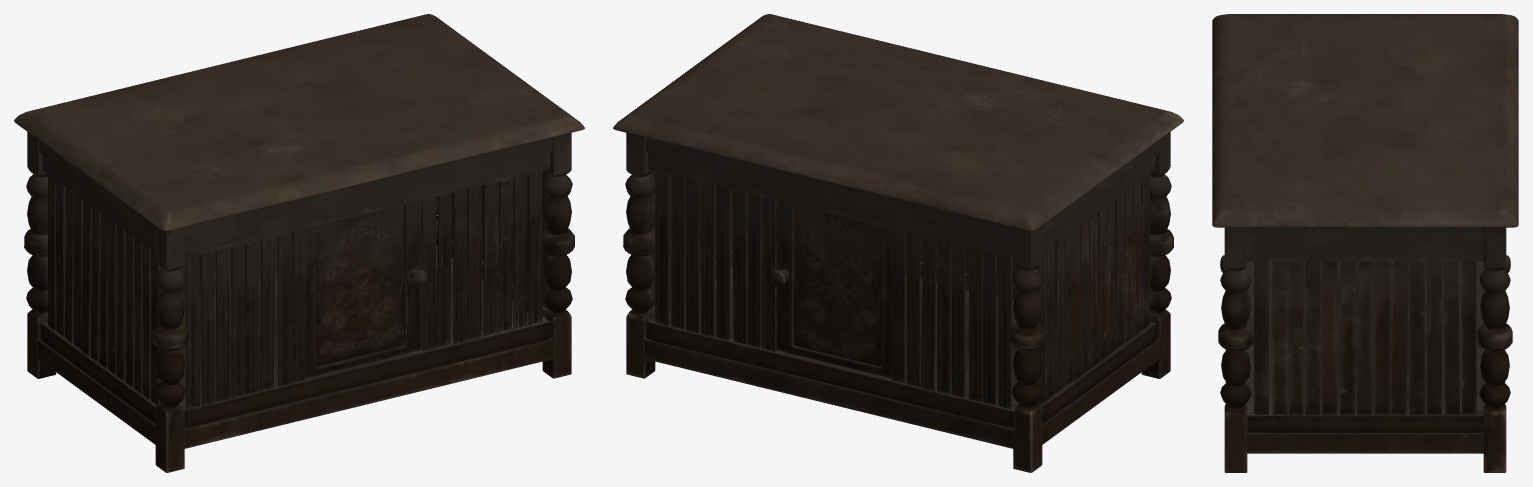
The model's file is gallinera_table.glb.
3 views of the same model, side by side, from view 1: azimuth 30°, elevation 25°; view 2: azimuth 150°, elevation 25°; view 3: azimuth 270°, elevation 25° (orthographic).
Visible parts, largest first — view 1: gallinera_table; view 2: gallinera_table; view 3: gallinera_table.
Part boxes in pixels (x1=…): gallinera_table: x1=14, y1=14, x2=584, y2=472; gallinera_table: x1=613, y1=14, x2=1183, y2=472; gallinera_table: x1=1212, y1=14, x2=1518, y2=472.
Bounding box in the file's own units: 0.8301 × 0.4878 × 0.5183.
Materials: 1 (1 with a texture image).
